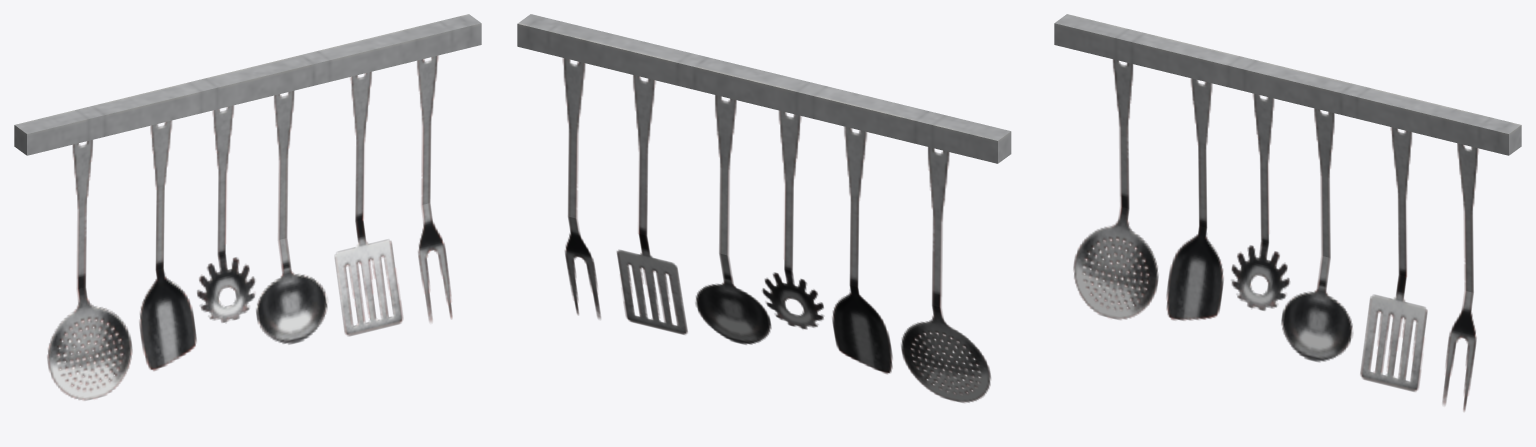
Rendered from Gadgets-col.glb.
The picture shows the model from 3 angles, left to right: view 1: azimuth 30°, elevation 25°; view 2: azimuth 150°, elevation 25°; view 3: azimuth 330°, elevation 25°; orthographic projection. The views are drawn at different scales.
Visible parts, largest first — view 1: Gadgets-col; view 2: Gadgets-col; view 3: Gadgets-col.
Boxes of the visible parts, x1,y1,x2,y2 form: Gadgets-col: (14,14,481,400); Gadgets-col: (517,14,1011,402); Gadgets-col: (1054,14,1521,411).
Bounding box in the file's own units: 1.26 × 0.7726 × 0.1041.
1 material, 1 textured.
